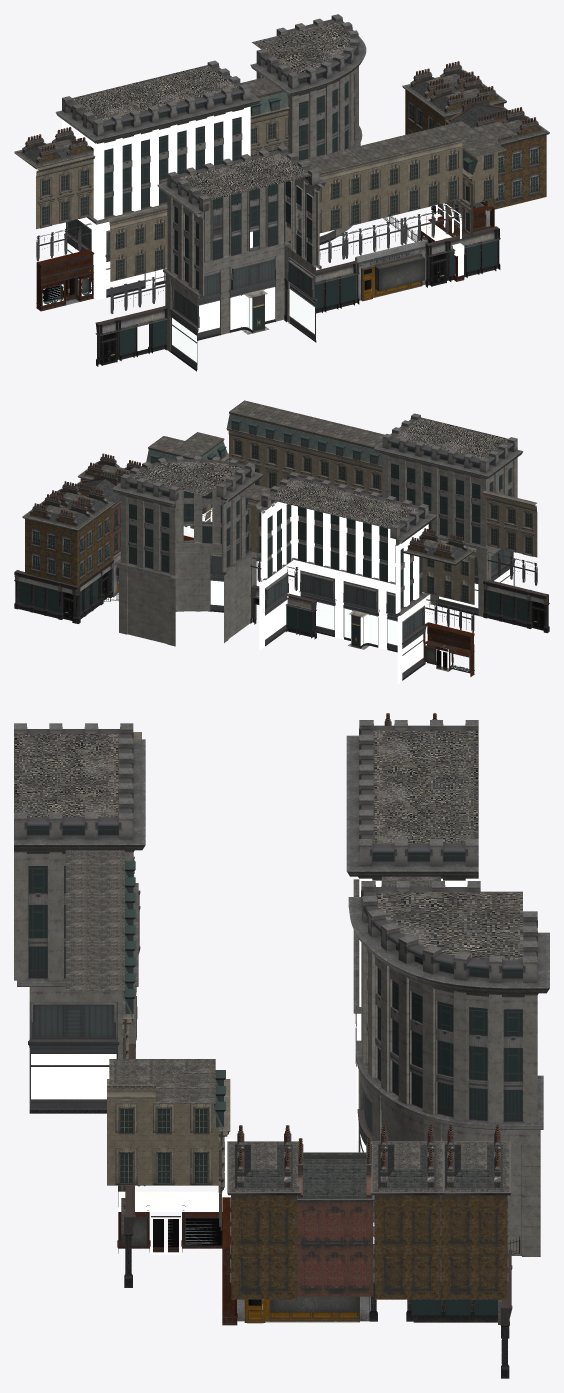
3 views of the same model, one above another, from view 1: azimuth 30°, elevation 25°; view 2: azimuth 150°, elevation 25°; view 3: azimuth 270°, elevation 25° (orthographic). The views are drawn at different scales.
Parts seen in each view (by area): view 1: LOD_1_Group_0_Sub_1__building_new_02.006, LOD_1_Group_0_Sub_6__building_new_06, LOD_1_Group_0_Sub_1__building_new_02.007, LOD_1_Group_0_Sub_1__buildingBrick01_B.005, LOD_1_Group_0_Sub_2__sm0007_buildingOld01_D_Mat, LOD_1_Group_0_Sub_2__sm0007_buildingOld01_D_Mat.003, LOD_1_Group_0_Sub_2__sm0007_buildingOld01_D_Mat.002, LOD_1_Group_0_Sub_2__sm0007_buildingOld01_D_Mat.004, LOD_1_Group_0_Sub_1__sm0021_storeBlack01_A_mat.004, LOD_1_Group_0_Sub_1__sm0028_storeWhite01_01_mat.001, LOD_1_Group_0_Sub_1__sm0021_storeBlack01_A_mat.006, LOD_1_Group_0_Sub_1__sm0038_storeWood01_A_mat.003 (+18 smaller); view 2: LOD_1_Group_0_Sub_6__building_new_06, LOD_1_Group_0_Sub_1__building_new_02.007, LOD_1_Group_0_Sub_1__building_new_02.006, LOD_1_Group_0_Sub_1__buildingBrick01_B.007, LOD_1_Group_0_Sub_1__sm0021_storeBlack01_A_mat.004, LOD_1_Group_0_Sub_2__sm0007_buildingOld01_D_Mat, LOD_1_Group_0_Sub_1__sm0021_storeBlack01_A_mat.007, LOD_1_Group_0_Sub_1__buildingBrick01_B.006, LOD_1_Group_0_Sub_2__sm0007_buildingOld01_D_Mat.004, LOD_1_Group_0_Sub_2__sm0007_buildingOld01_D_Mat.003, LOD_1_Group_0_Sub_1__sm0038_storeWood01_A_mat.003, LOD_1_Group_0_Sub_1__sm0007_buildingOld01_A_Mat (+12 smaller); view 3: LOD_1_Group_0_Sub_1__building_new_02.007, LOD_1_Group_0_Sub_1__building_new_02.006, LOD_1_Group_0_Sub_6__building_new_06, LOD_1_Group_0_Sub_1__buildingBrick01_B.006, LOD_1_Group_0_Sub_1__buildingBrick01_B.005, LOD_1_Group_0_Sub_1__buildingBrick02_B, LOD_1_Group_0_Sub_1__buildingBrick01_B.007, LOD_1_Group_0_Sub_1__sm0007_buildingOld01_D_Mat.007, LOD_1_Group_0_Sub_1__sm0038_storeWood01_A_mat.001, LOD_1_Group_0_Sub_1__sm0007_buildingOld01_A_Mat, LOD_1_Group_0_Sub_1__sm0007_buildingOld01_D_Mat.013, LOD_1_Group_0_Sub_1__sm0007_buildingOld01_D_Mat.012 (+6 smaller).
Boxes of the visible parts, x1=… form: LOD_1_Group_0_Sub_1__building_new_02.006: x1=157, y1=145, x2=325, y2=371; LOD_1_Group_0_Sub_6__building_new_06: x1=55, y1=60, x2=260, y2=299; LOD_1_Group_0_Sub_1__building_new_02.007: x1=250, y1=14, x2=366, y2=244; LOD_1_Group_0_Sub_1__buildingBrick01_B.005: x1=475, y1=107, x2=549, y2=210; LOD_1_Group_0_Sub_2__sm0007_buildingOld01_D_Mat: x1=107, y1=204, x2=167, y2=281; LOD_1_Group_0_Sub_2__sm0007_buildingOld01_D_Mat.003: x1=403, y1=138, x2=462, y2=212; LOD_1_Group_0_Sub_2__sm0007_buildingOld01_D_Mat.002: x1=344, y1=153, x2=403, y2=227; LOD_1_Group_0_Sub_2__sm0007_buildingOld01_D_Mat.004: x1=36, y1=154, x2=95, y2=229; LOD_1_Group_0_Sub_1__sm0021_storeBlack01_A_mat.004: x1=95, y1=276, x2=167, y2=366; LOD_1_Group_0_Sub_1__sm0028_storeWhite01_01_mat.001: x1=355, y1=240, x2=428, y2=302; LOD_1_Group_0_Sub_1__sm0021_storeBlack01_A_mat.006: x1=425, y1=226, x2=500, y2=287; LOD_1_Group_0_Sub_1__sm0038_storeWood01_A_mat.003: x1=36, y1=249, x2=94, y2=311; LOD_1_Group_0_Sub_6__building_new_06: x1=255, y1=472, x2=437, y2=683; LOD_1_Group_0_Sub_1__building_new_02.007: x1=112, y1=456, x2=263, y2=646; LOD_1_Group_0_Sub_1__building_new_02.006: x1=374, y1=413, x2=523, y2=616; LOD_1_Group_0_Sub_1__buildingBrick01_B.007: x1=22, y1=494, x2=97, y2=585; LOD_1_Group_0_Sub_1__sm0021_storeBlack01_A_mat.004: x1=483, y1=552, x2=549, y2=633; LOD_1_Group_0_Sub_2__sm0007_buildingOld01_D_Mat: x1=482, y1=490, x2=537, y2=557; LOD_1_Group_0_Sub_1__sm0021_storeBlack01_A_mat.007: x1=14, y1=570, x2=80, y2=623; LOD_1_Group_0_Sub_1__buildingBrick01_B.006: x1=40, y1=481, x2=115, y2=572; LOD_1_Group_0_Sub_2__sm0007_buildingOld01_D_Mat.004: x1=422, y1=540, x2=476, y2=604; LOD_1_Group_0_Sub_2__sm0007_buildingOld01_D_Mat.003: x1=226, y1=428, x2=280, y2=488; LOD_1_Group_0_Sub_1__sm0038_storeWood01_A_mat.003: x1=423, y1=622, x2=474, y2=676; LOD_1_Group_0_Sub_1__sm0007_buildingOld01_A_Mat: x1=146, y1=432, x2=227, y2=463; LOD_1_Group_0_Sub_1__building_new_02.007: x1=348, y1=881, x2=549, y2=1256; LOD_1_Group_0_Sub_1__building_new_02.006: x1=14, y1=723, x2=145, y2=1113; LOD_1_Group_0_Sub_6__building_new_06: x1=346, y1=720, x2=480, y2=1140; LOD_1_Group_0_Sub_1__buildingBrick01_B.006: x1=370, y1=1125, x2=444, y2=1299; LOD_1_Group_0_Sub_1__buildingBrick01_B.005: x1=227, y1=1125, x2=301, y2=1299; LOD_1_Group_0_Sub_1__buildingBrick02_B: x1=297, y1=1138, x2=374, y2=1296; LOD_1_Group_0_Sub_1__buildingBrick01_B.007: x1=438, y1=1125, x2=511, y2=1299; LOD_1_Group_0_Sub_1__sm0007_buildingOld01_D_Mat.007: x1=107, y1=1079, x2=230, y2=1230; LOD_1_Group_0_Sub_1__sm0038_storeWood01_A_mat.001: x1=117, y1=1191, x2=230, y2=1254; LOD_1_Group_0_Sub_1__sm0007_buildingOld01_A_Mat: x1=109, y1=1059, x2=225, y2=1130; LOD_1_Group_0_Sub_1__sm0007_buildingOld01_D_Mat.013: x1=65, y1=943, x2=135, y2=1018; LOD_1_Group_0_Sub_1__sm0007_buildingOld01_D_Mat.012: x1=65, y1=895, x2=135, y2=957.
Size of the model in its own units: 6935 by 2527 by 3912.
